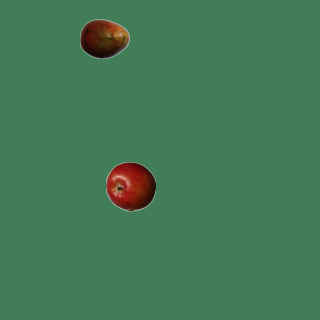Apple Braeburn: (105, 161, 155, 211)
Mango Red: (79, 13, 129, 63)
